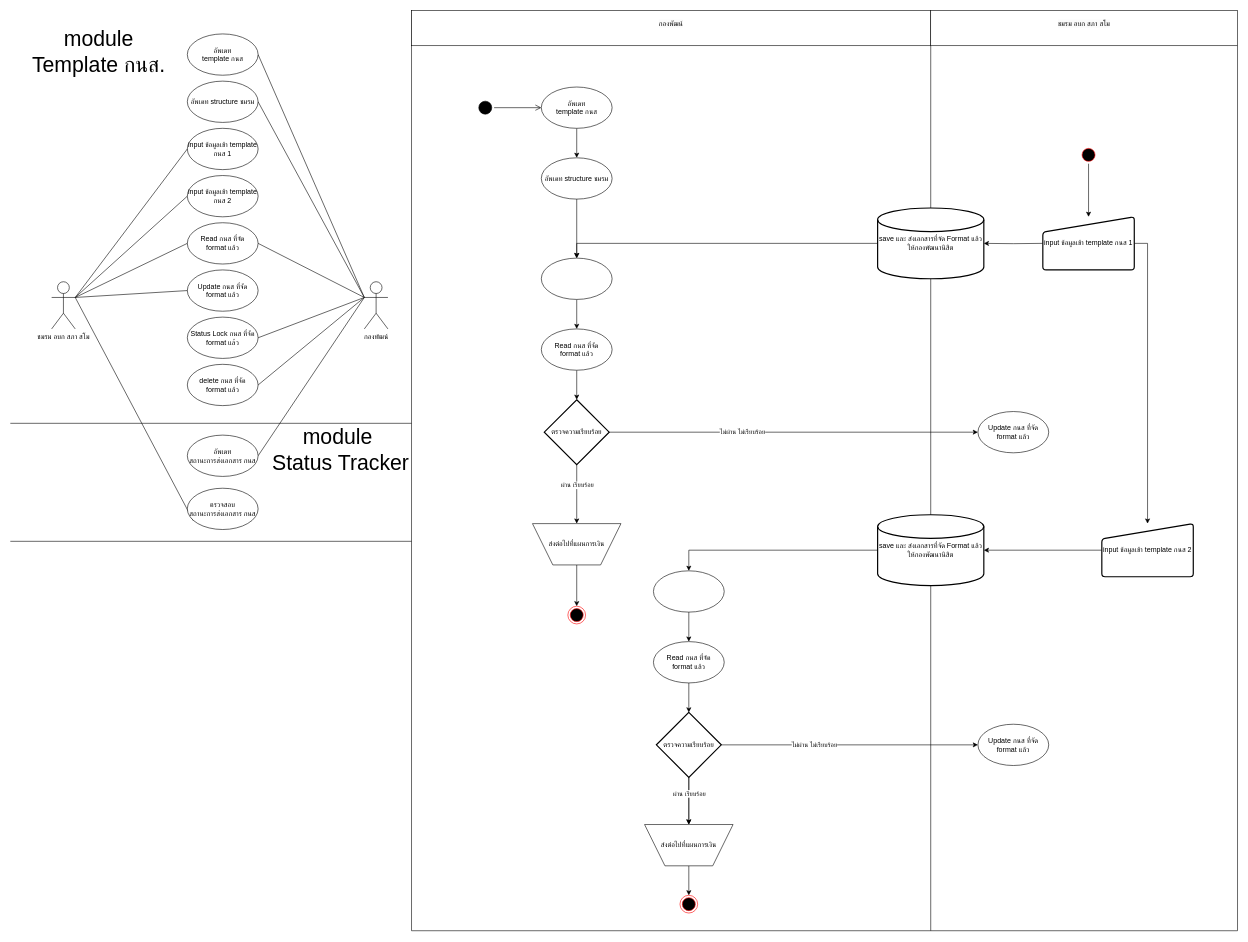
Image size: 1248x942. Some labels were removed from this diagram. Here are the shapes that lost their labels. From the top down, the box of each, then its label:
(541, 258, 612, 299): Status Lock กนส 1 ที่จัดformat แล้ว
(653, 570, 724, 612): Status Lock กนส 2 ที่จัดformat แล้ว
